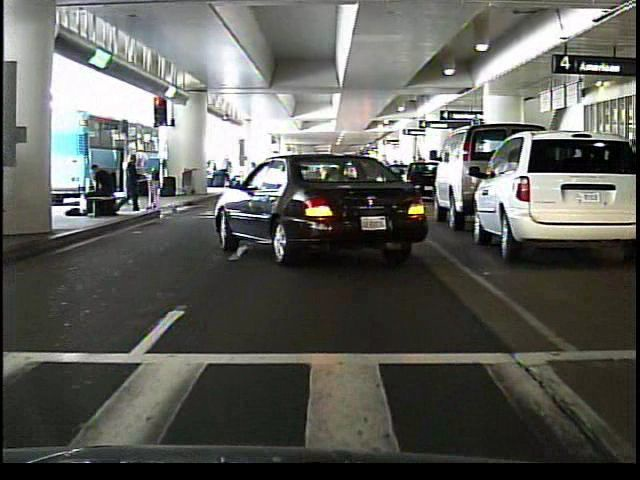person: (80, 162, 117, 223), (119, 149, 142, 211)
